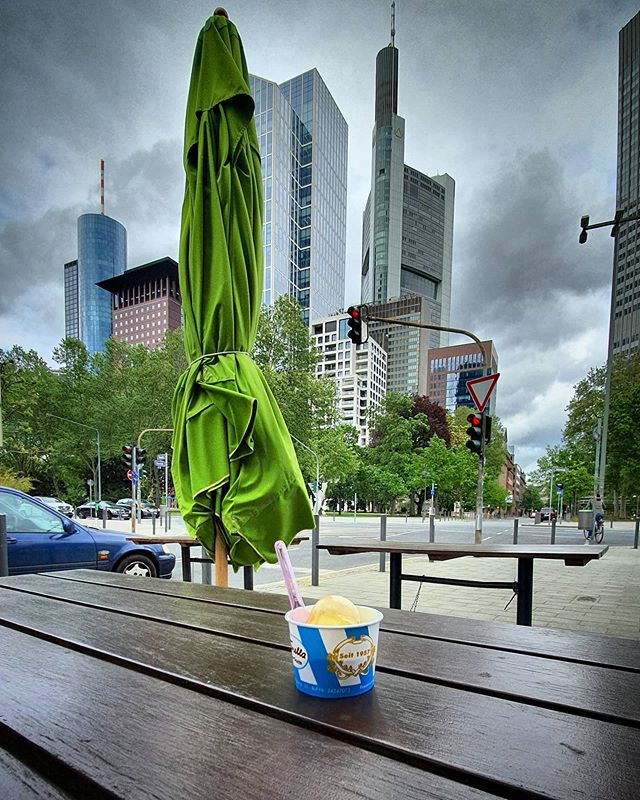building: (221, 77, 359, 370), (368, 30, 462, 343), (305, 318, 388, 463), (357, 292, 439, 436), (111, 263, 198, 388), (59, 205, 132, 353)
car: (1, 477, 177, 587)
sky: (1, 1, 188, 343), (456, 1, 609, 387)
vegetation: (7, 372, 639, 504)
